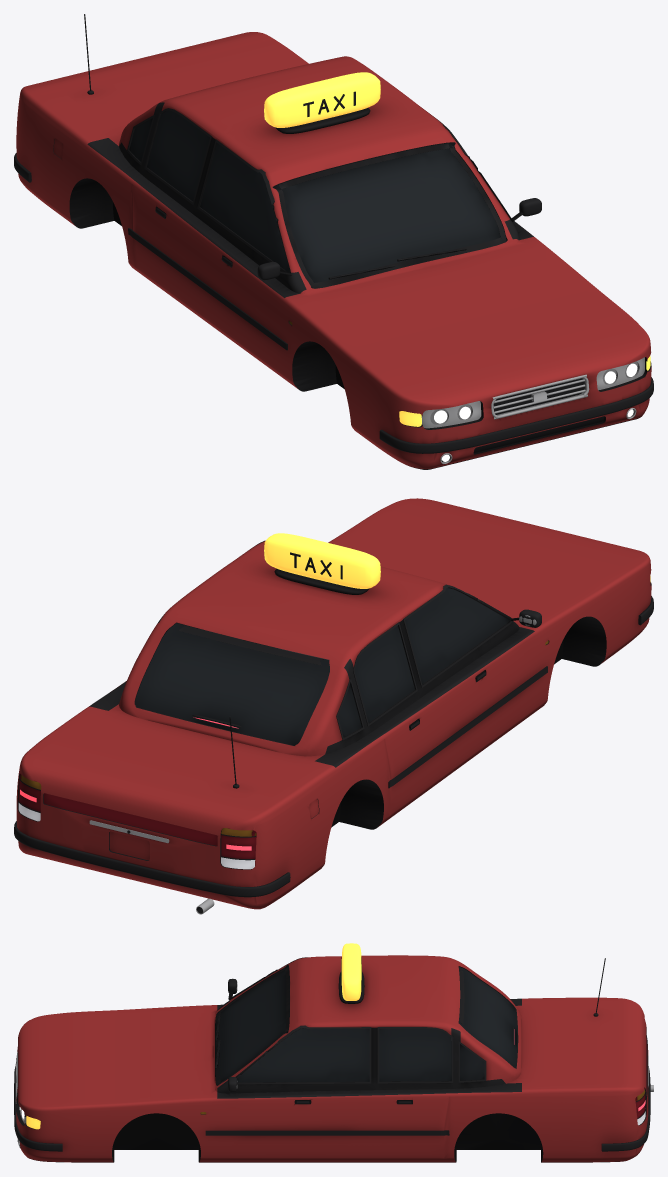
File: cabbie.glb
3 renders of one model, top to bottom at view 1: azimuth 30°, elevation 25°; view 2: azimuth 150°, elevation 25°; view 3: azimuth 270°, elevation 25°, orthographic. The views are drawn at different scales.
Parts seen in each view (by area): view 1: paint, window, trim, amber, chrome, grille; view 2: paint, window, trim, amber, tail, chrome; view 3: paint, window, trim, amber.
Boxes of the visible parts, x1=… form: paint: x1=16, y1=32, x2=651, y2=469; window: x1=129, y1=110, x2=507, y2=288; trim: x1=14, y1=14, x2=653, y2=469; amber: x1=264, y1=72, x2=650, y2=426; chrome: x1=421, y1=357, x2=644, y2=463; grille: x1=473, y1=378, x2=604, y2=452; paint: x1=16, y1=498, x2=651, y2=909; window: x1=135, y1=587, x2=509, y2=745; trim: x1=14, y1=540, x2=653, y2=913; amber: x1=264, y1=533, x2=650, y2=588; tail: x1=18, y1=773, x2=256, y2=865; chrome: x1=89, y1=615, x2=536, y2=914; paint: x1=16, y1=955, x2=648, y2=1162; window: x1=219, y1=965, x2=517, y2=1082; trim: x1=14, y1=957, x2=650, y2=1162; amber: x1=26, y1=943, x2=361, y2=1129.
Size of what is drawn, in the model's own units: 2.13 by 1.5 by 5.46.
